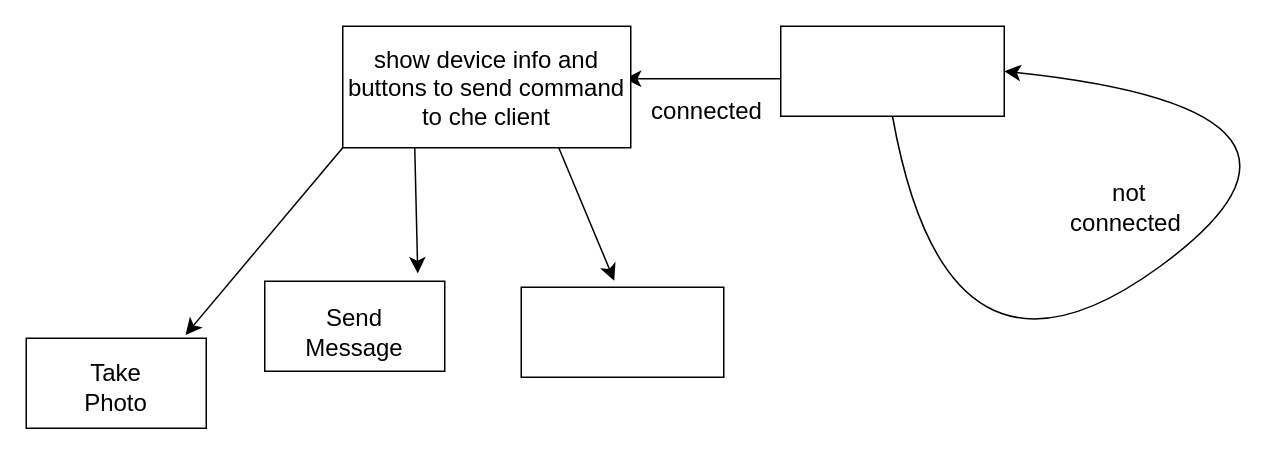
This 1268x455 diagram has some shape labels left out. Here are the shapes that lost their labels. From the top down, the box of each, then its label:
(779, 25, 1004, 116): check-connection
(520, 286, 724, 377): Altra operazione
